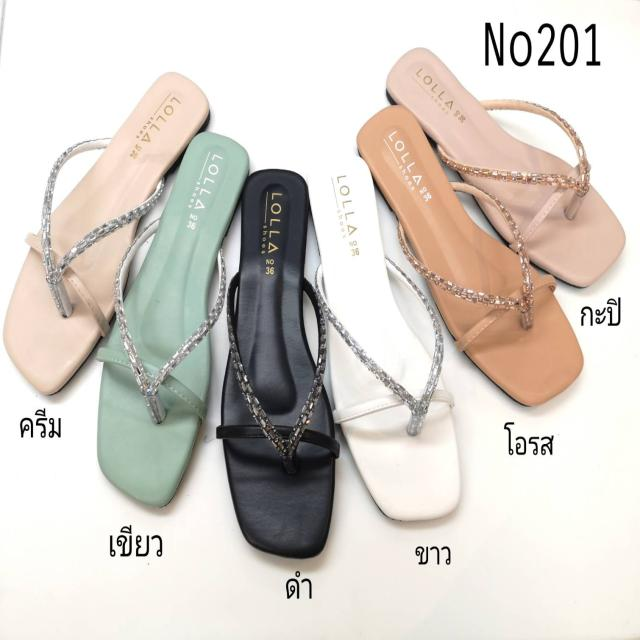black: (222, 173, 336, 559)
cream: (6, 73, 211, 408)
green: (94, 134, 245, 510)
kapi: (385, 44, 621, 283)
orot: (358, 110, 585, 406)
white: (311, 163, 462, 520)
